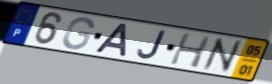6: (33, 12, 63, 46)
A: (93, 22, 131, 59)
G: (61, 16, 96, 51)
H: (168, 32, 213, 70)
J: (136, 29, 167, 61)
N: (200, 36, 244, 74)
